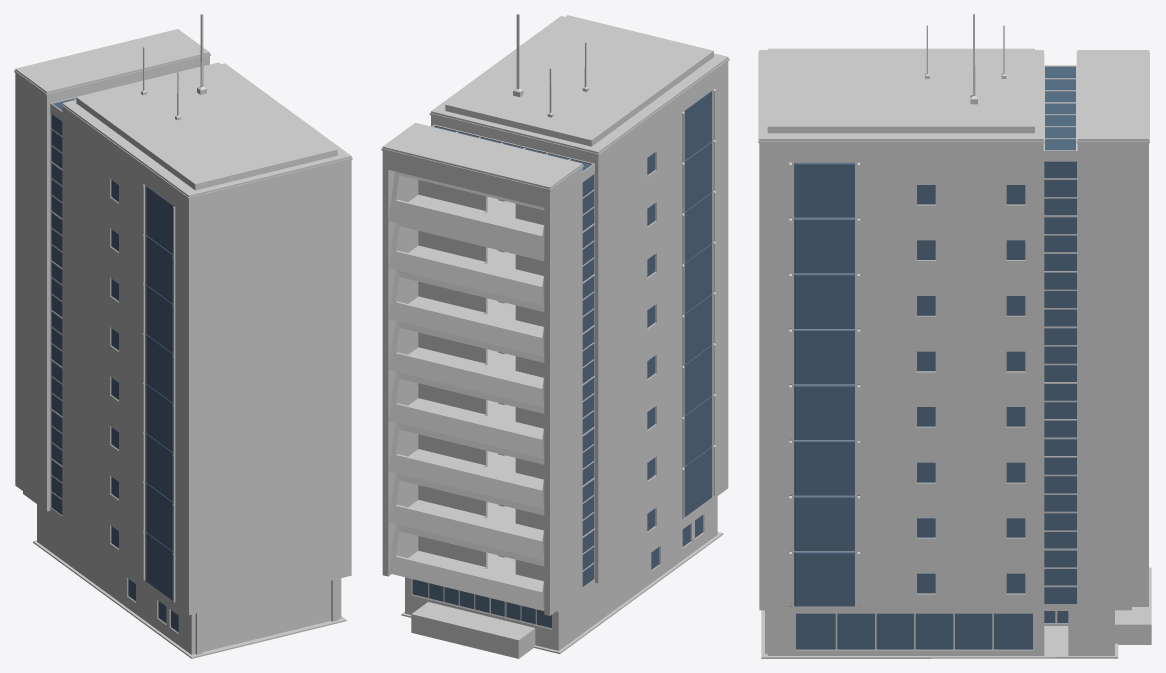
Rendered from res_05.glb.
The picture shows the model from 3 angles, left to right: view 1: azimuth 30°, elevation 25°; view 2: azimuth 150°, elevation 25°; view 3: azimuth 270°, elevation 25°; orthographic projection. The views are drawn at different scales.
Parts seen in each view (by area): view 1: Residential Buildings 005; view 2: Residential Buildings 005; view 3: Residential Buildings 005.
Boxes of the visible parts, x1,y1,x2,y2 form: Residential Buildings 005: (14, 14, 352, 658); Residential Buildings 005: (381, 14, 729, 658); Residential Buildings 005: (758, 14, 1151, 658).
Bounding box in the file's own units: 12.6 × 39.99 × 23.1.
